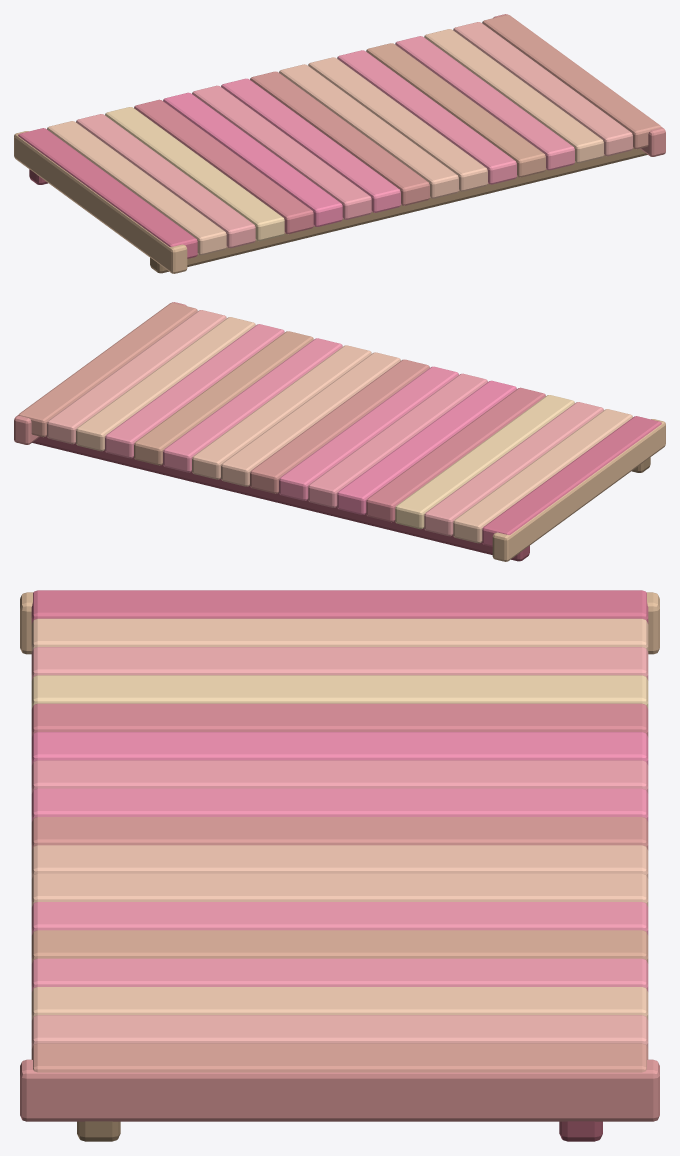
The model's file is WC_RIVER_Bridge_Deck_A.glb.
The picture shows the model from 3 angles, top to bottom: view 1: azimuth 30°, elevation 25°; view 2: azimuth 150°, elevation 25°; view 3: azimuth 270°, elevation 25°; orthographic projection. The views are drawn at different scales.
Visible parts, largest first — view 1: WC_RIVER_Bridge_Deck_A_RenderMesh; view 2: WC_RIVER_Bridge_Deck_A_RenderMesh; view 3: WC_RIVER_Bridge_Deck_A_RenderMesh.
Part boxes in pixels (x1=…): WC_RIVER_Bridge_Deck_A_RenderMesh: x1=14, y1=14, x2=665, y2=273; WC_RIVER_Bridge_Deck_A_RenderMesh: x1=14, y1=302, x2=665, y2=561; WC_RIVER_Bridge_Deck_A_RenderMesh: x1=20, y1=590, x2=659, y2=1141.
Size of the model in its own units: 3.41 by 0.25 by 1.91.
